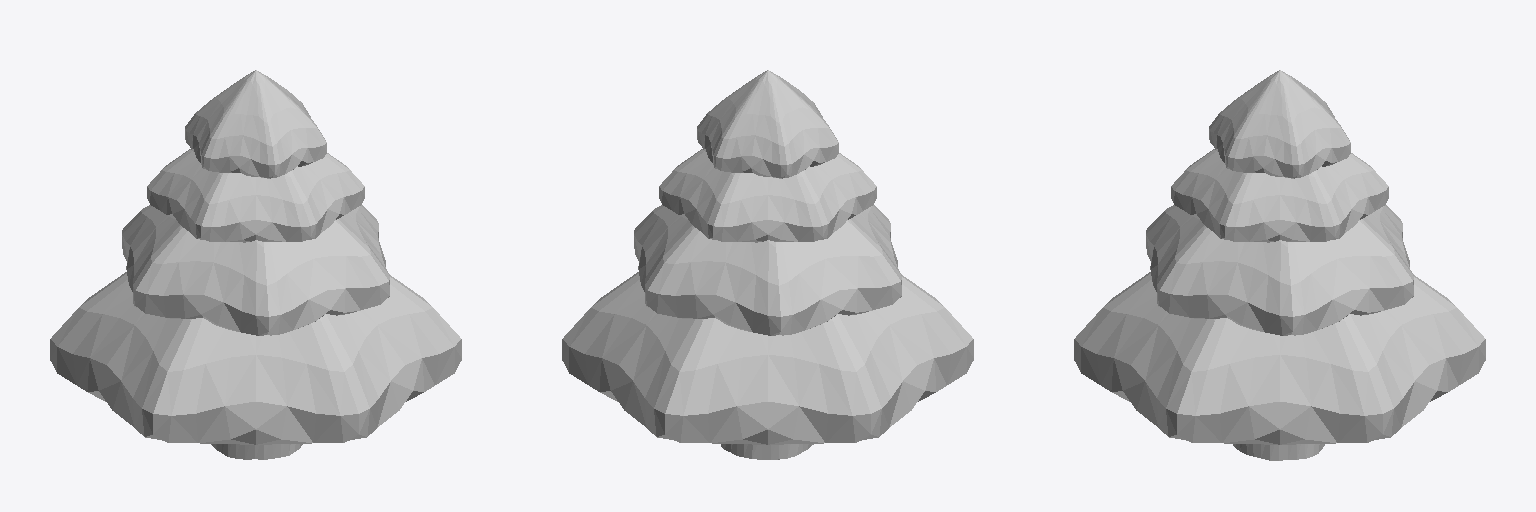
The model's file is cartoon_pine_tree.obj.
The picture shows the model from 3 angles: view 1: azimuth 30°, elevation 25°; view 2: azimuth 150°, elevation 25°; view 3: azimuth 270°, elevation 25°; orthographic projection.
Visible parts, largest first — view 1: Pine, Trunk; view 2: Pine, Trunk; view 3: Pine, Trunk.
Boxes of the visible parts, x1=… form: Pine: x1=50, y1=70, x2=461, y2=444; Trunk: x1=211, y1=444, x2=302, y2=459; Pine: x1=562, y1=70, x2=973, y2=444; Trunk: x1=721, y1=444, x2=813, y2=459; Pine: x1=1074, y1=70, x2=1485, y2=444; Trunk: x1=1233, y1=444, x2=1324, y2=460.
Bounding box in the file's own units: 213 × 240 × 241.